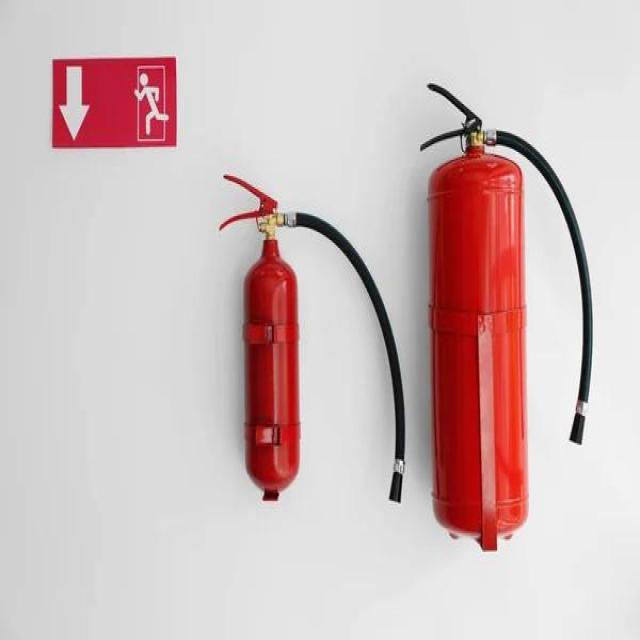fire_extinguisher: (415, 78, 596, 551), (214, 167, 410, 510)
